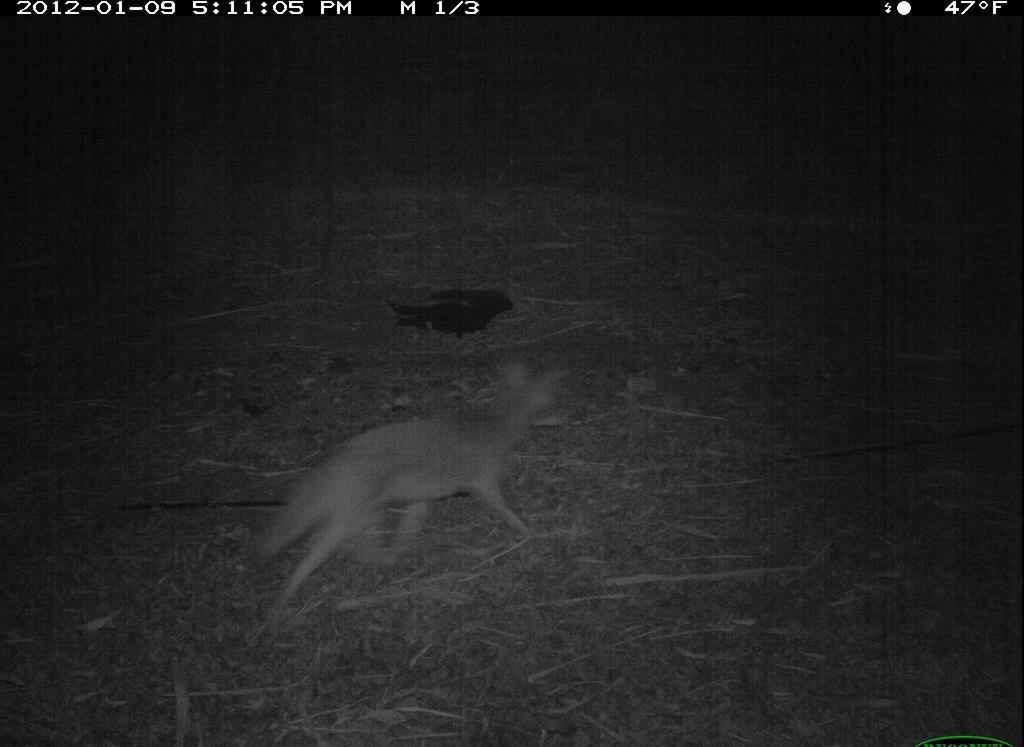coyote: (249, 355, 584, 620)
